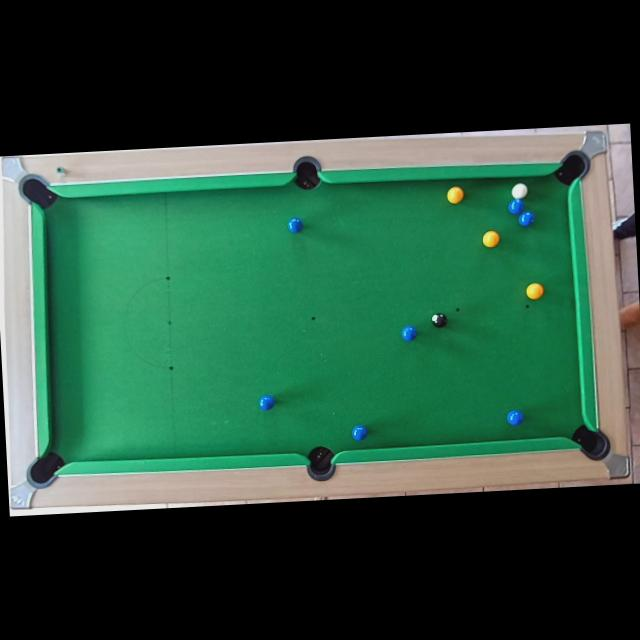Ball: (526, 282, 544, 300), (482, 230, 500, 248), (446, 186, 464, 203), (507, 410, 524, 428), (400, 326, 418, 343), (511, 183, 528, 200), (508, 199, 525, 216), (351, 424, 367, 442), (518, 212, 536, 228), (288, 218, 304, 235), (432, 312, 448, 328), (258, 395, 274, 411)
